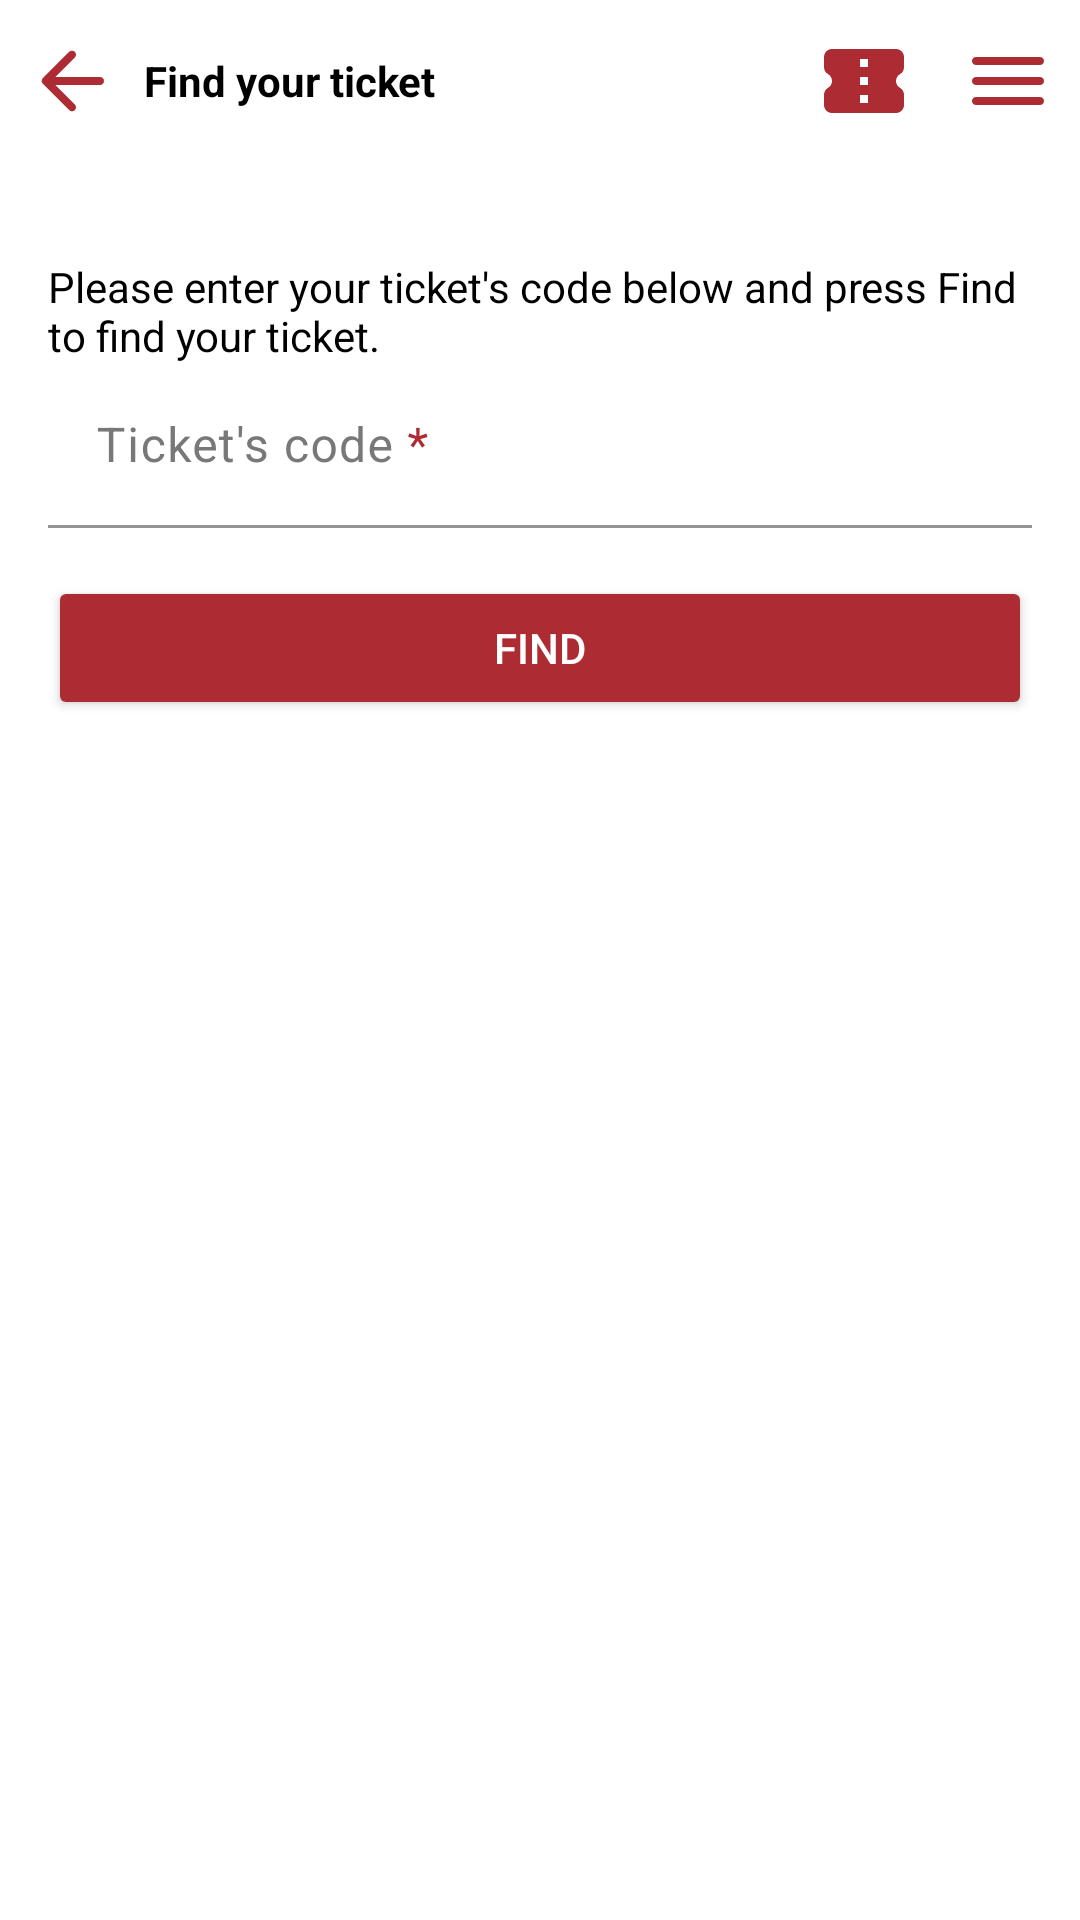

Screen size 1080w x 1920h. Icon name, then its center in pixels as (x,y):
back arrow: (72,81)
menu: (1008,81)
